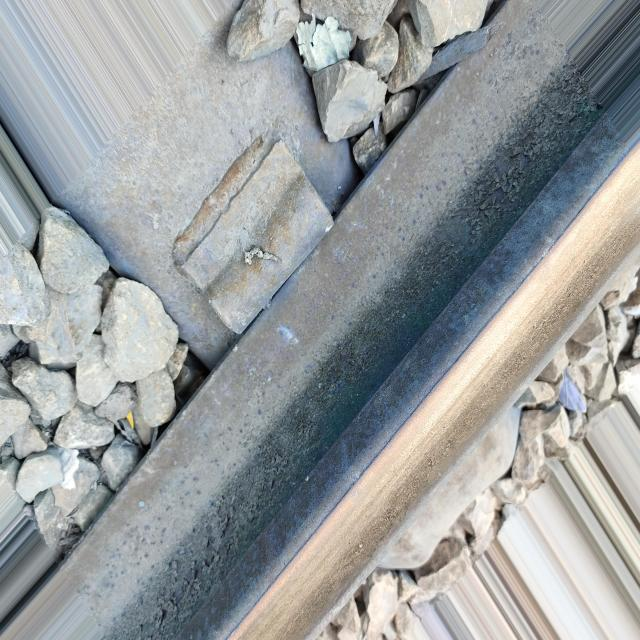Missing Fastener: (165, 88, 351, 347)
